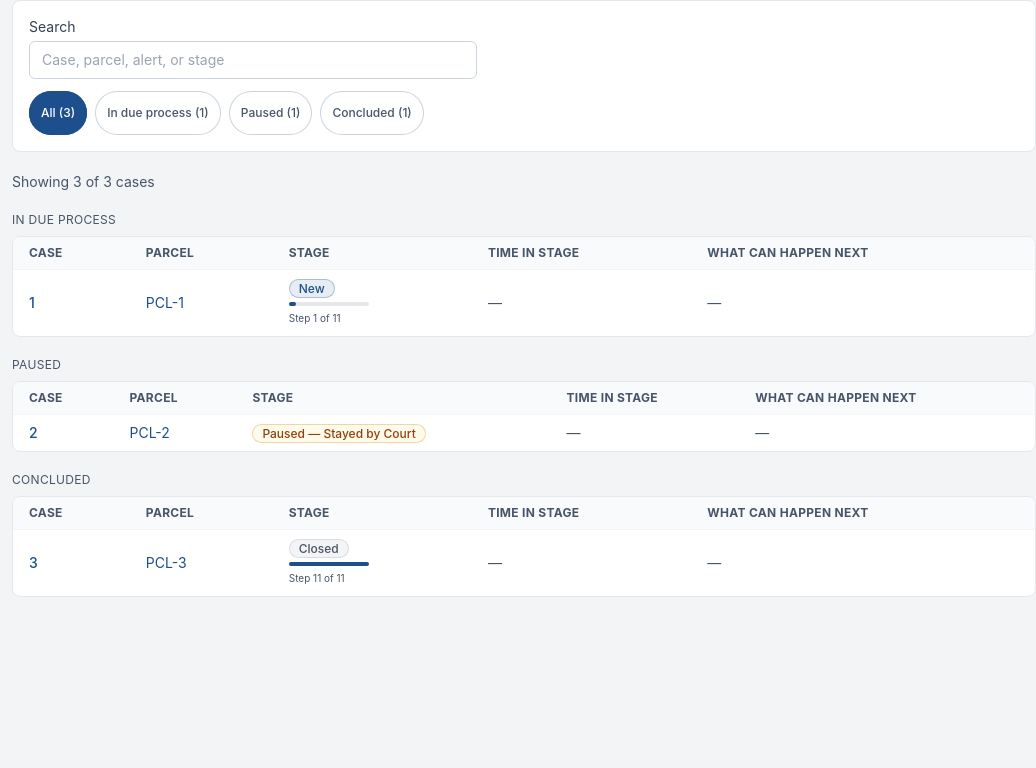
Test: CasesTable › filters by workflow bucket with visible counts
The image size is (1036, 768).
Click the button "Paused (1)": [271, 113] box [229,91,312,135]
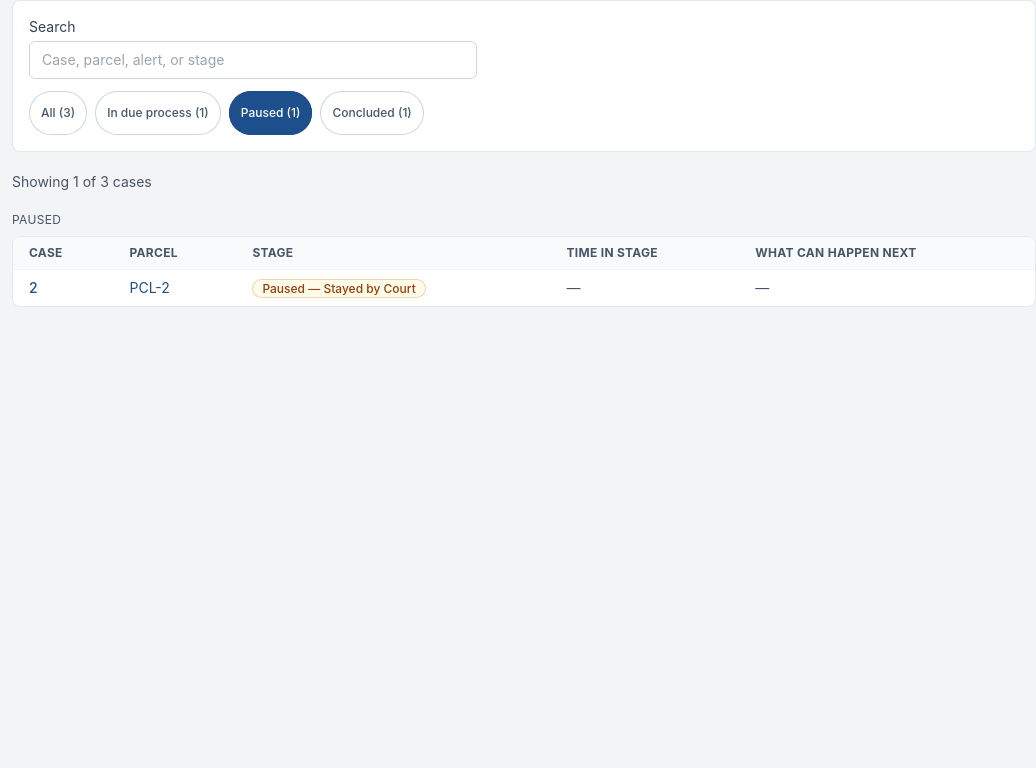
Check: the number of rows with test id "case-row" is 1, box [13,270,1035,306]
